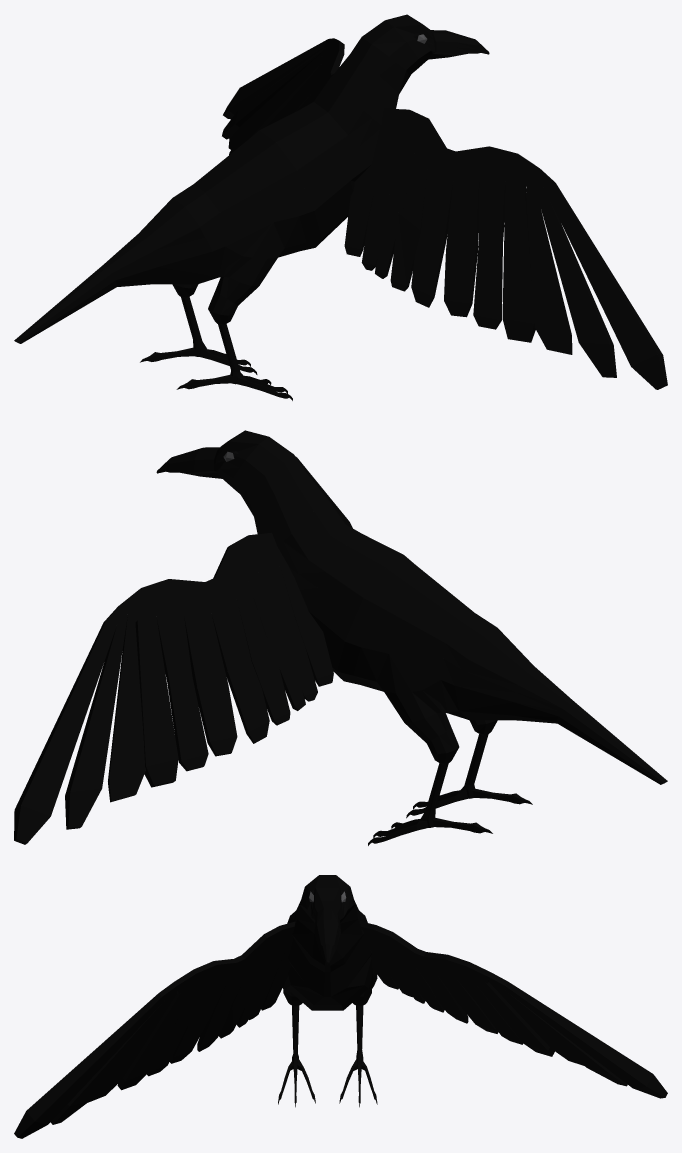
Rendered from crow_down_000002.obj.
3 views of the same model, one above another, from view 1: azimuth 30°, elevation 25°; view 2: azimuth 150°, elevation 25°; view 3: azimuth 270°, elevation 25° (orthographic). The views are drawn at different scales.
Visible parts, largest first — view 1: Cylinder; view 2: Cylinder; view 3: Cylinder.
Boxes of the visible parts, x1=… form: Cylinder: x1=14, y1=14, x2=667, y2=400; Cylinder: x1=14, y1=430, x2=667, y2=845; Cylinder: x1=14, y1=875, x2=667, y2=1138.
Size of the model in its own units: 1.55 by 1.01 by 2.11.
